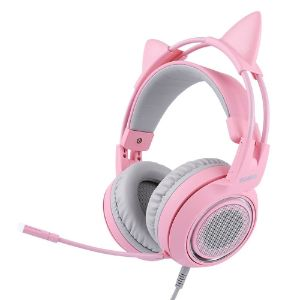headset: (8, 7, 272, 286)
